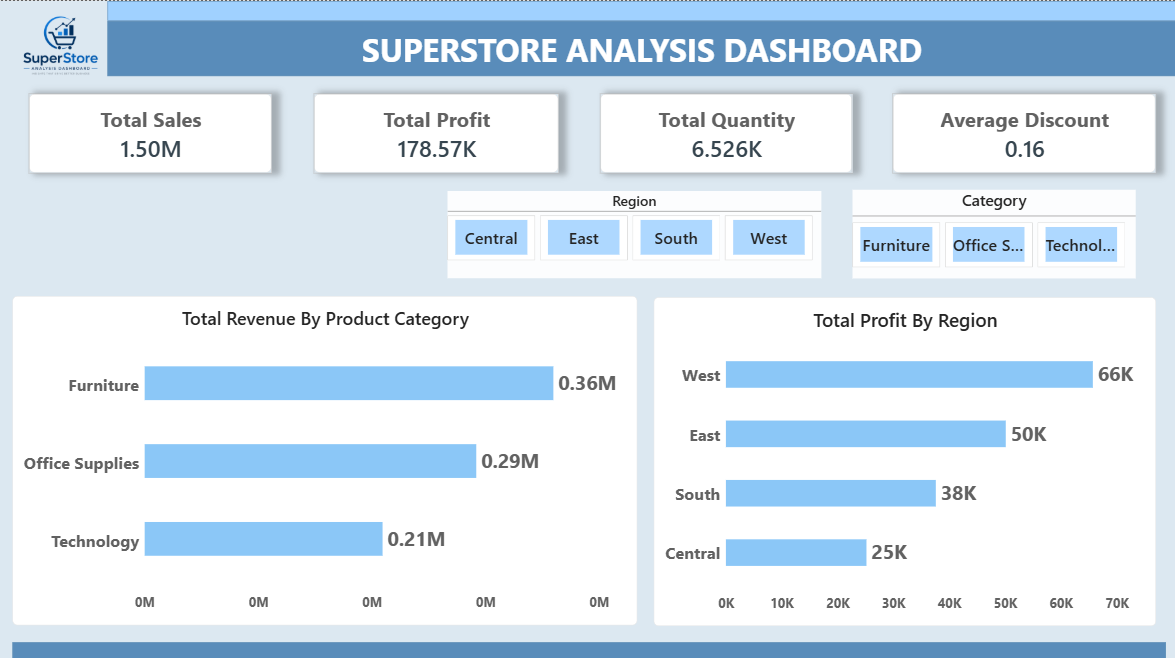

What the dashboard file says about the page in this screenshot:
{"tool":"powerbi","page":{"name":"Page 1","canvas":[1920,1080],"ordinal":0},"visuals":[{"type":"cardVisual","fields":{"Data":["Sum(Sample - Superstore.Sales)"]},"box":[47.5,150,397.5,130],"z":0},{"type":"shape","box":[175,32.5,1745,90],"z":1000},{"type":"cardVisual","fields":{"Data":["Sum(Sample - Superstore.Profit)"]},"box":[512.5,150,400,130],"z":2000},{"type":"cardVisual","fields":{"Data":["Avg(Sample - Superstore.Discount)"]},"box":[1457.5,150,430,130],"z":3000},{"type":"cardVisual","fields":{"Data":["CountNonNull(Sample - Superstore.Quantity)"]},"box":[980,150,412.5,130],"z":4000},{"type":"clusteredBarChart","title":"Total Revenue By Product Category","fields":{"Category":["Sample - Superstore.Category"],"Y":["Sum(Sample - Superstore.Sales)"]},"box":[20,482.5,1020,537.5],"z":5000},{"type":"clusteredBarChart","title":"Total Profit By Region","fields":{"Category":["Sample - Superstore.Region"],"Y":["Sum(Sample - Superstore.Profit)"]},"box":[1066.7,483.3,820,536.7],"z":6000},{"type":"shape","box":[175,0,1745,32.5],"z":7000},{"type":"advancedSlicerVisual","fields":{"Values":["Sample - Superstore.Region"]},"box":[730,310,610,142.5],"z":8000},{"type":"shape","box":[20,1046.7,1883.3,33.3],"z":9000},{"type":"advancedSlicerVisual","fields":{"Values":["Sample - Superstore.Category"]},"box":[1392.5,307.5,462.5,145],"z":10000},{"type":"image","box":[0,0,197.5,147.5],"z":11000}]}

Visuals, with their boxes in screenshot pixels (x1, y1, x2, y2), scaled from the page's 1920x1080 canvas onto the 1175x658 screenshot:
cardVisual - Sum(Sample - Superstore.Sales): [29,91,272,171]
shape: [107,20,1174,75]
cardVisual - Sum(Sample - Superstore.Profit): [314,91,558,171]
cardVisual - Avg(Sample - Superstore.Discount): [892,91,1155,171]
cardVisual - CountNonNull(Sample - Superstore.Quantity): [600,91,852,171]
"Total Revenue By Product Category" clusteredBarChart: [12,294,636,621]
"Total Profit By Region" clusteredBarChart: [653,294,1155,621]
shape: [107,0,1174,20]
advancedSlicerVisual - Sample - Superstore.Region: [447,189,820,276]
shape: [12,638,1165,657]
advancedSlicerVisual - Sample - Superstore.Category: [852,187,1135,276]
image: [0,0,121,90]
